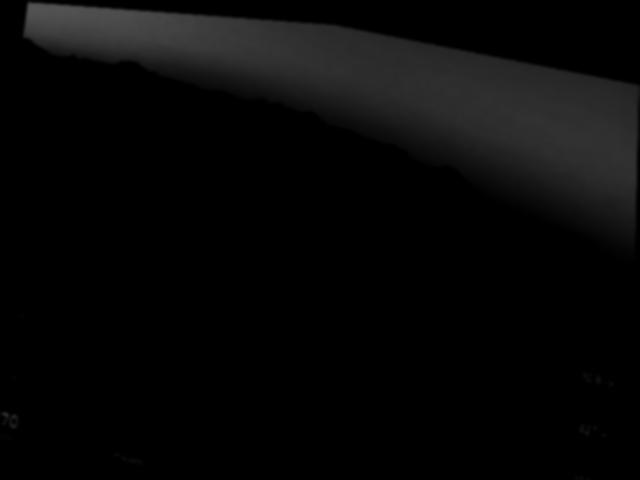hedef: (112, 435, 150, 471)
